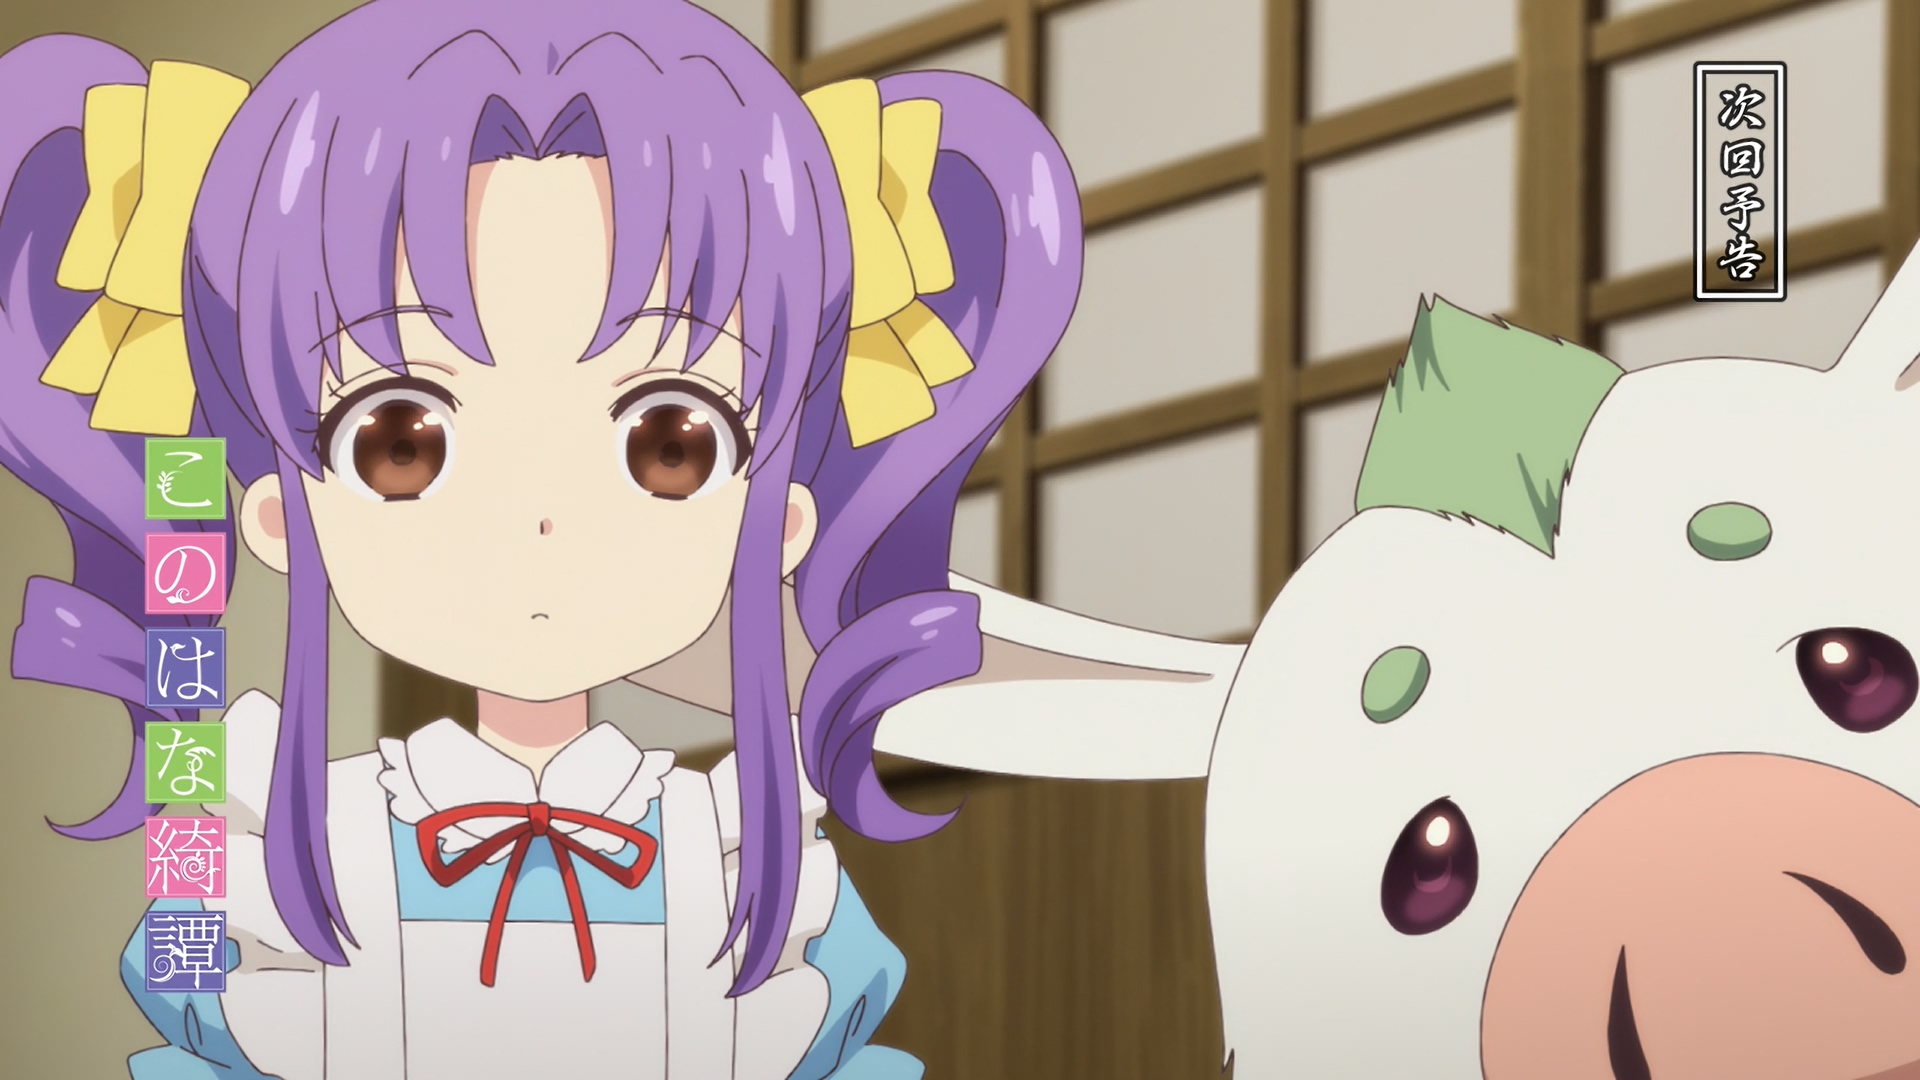瓜之介: (626, 233, 1920, 1080)
阿菊: (1, 1, 1085, 1080)
